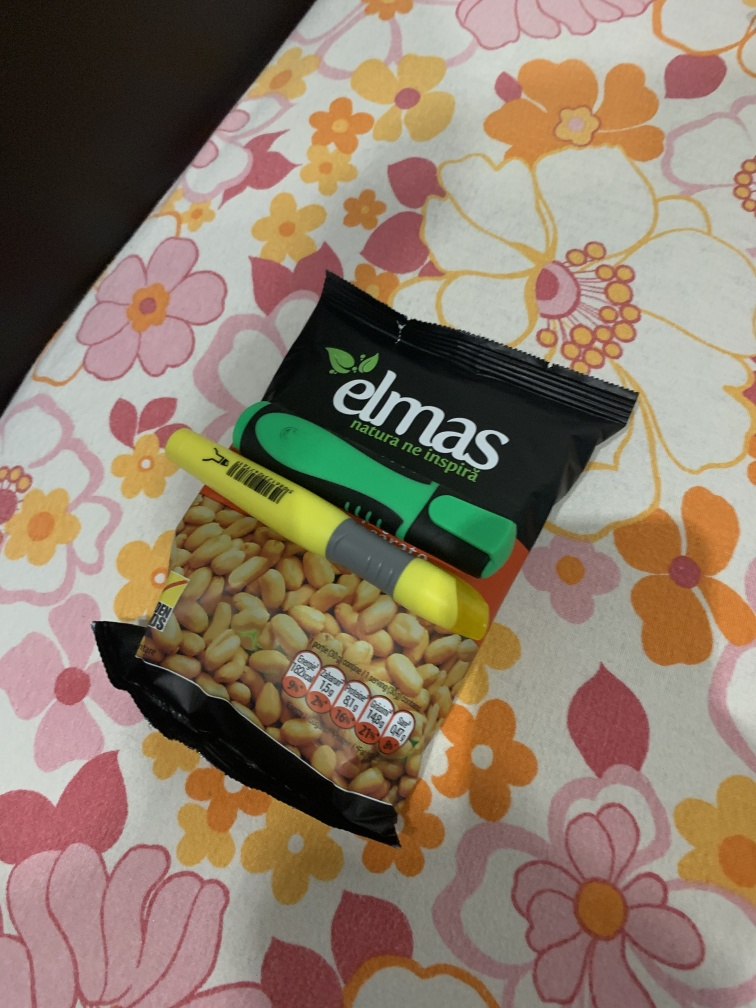peanuts: (109, 268, 639, 861)
